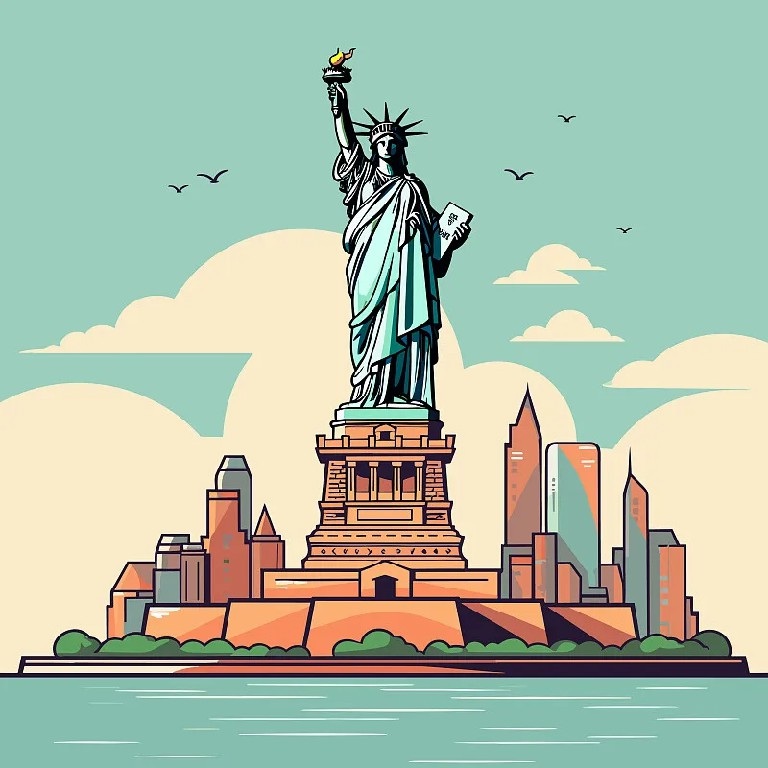SL: (301, 47, 474, 568)
